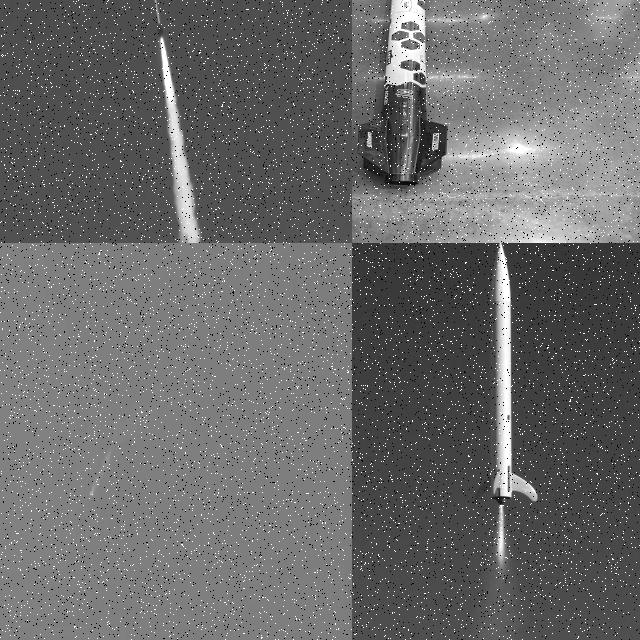Rocket: (472, 243, 538, 506), (357, 0, 448, 186), (152, 0, 165, 35), (89, 492, 93, 502)
